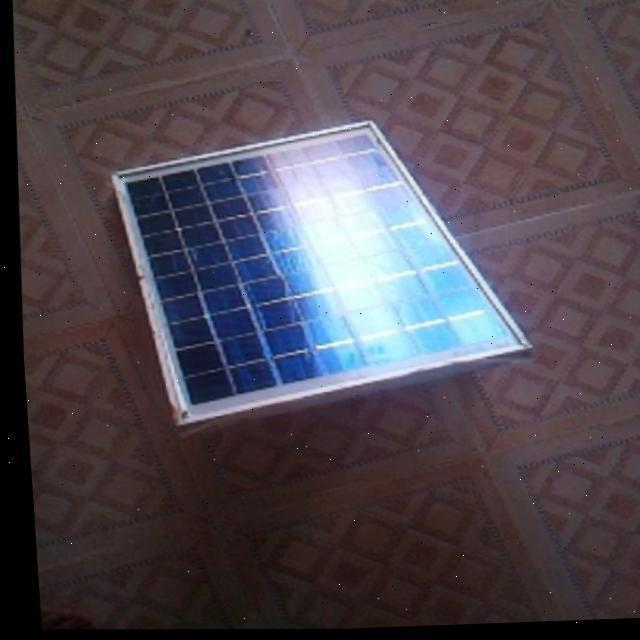Normal Solar Panel: (97, 110, 537, 438)
